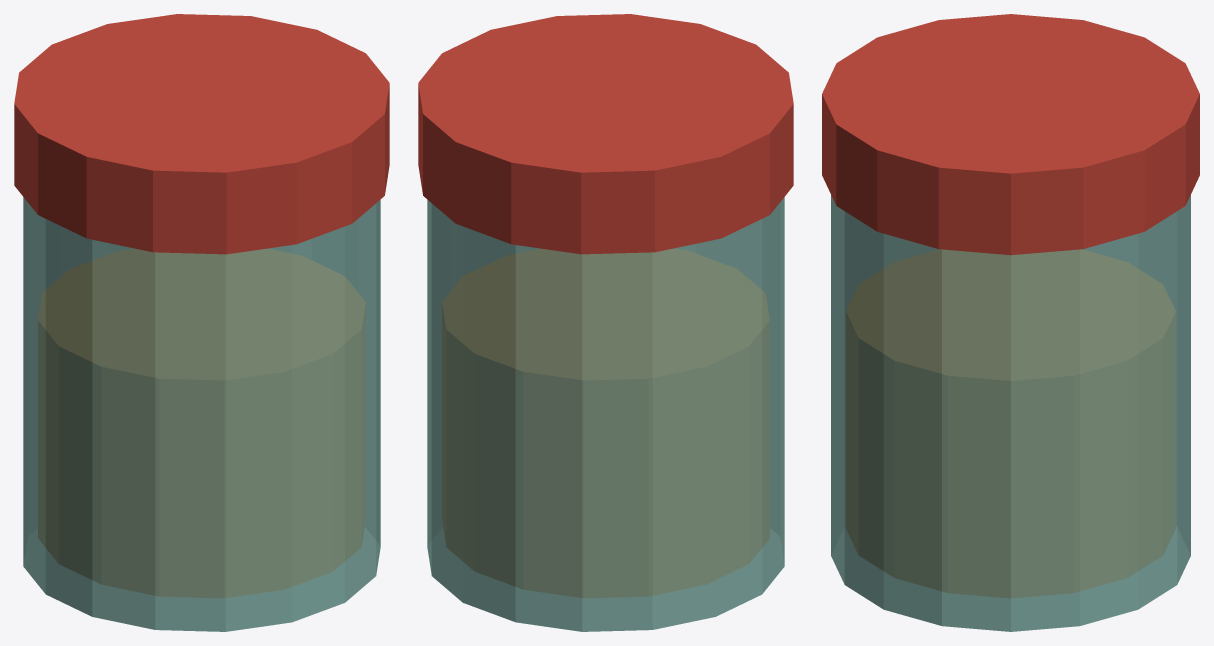
The model's file is jar.fbx.
3 renders of one model, left to right at view 1: azimuth 30°, elevation 25°; view 2: azimuth 150°, elevation 25°; view 3: azimuth 270°, elevation 25°, orthographic.
Visible parts, largest first — view 1: jar; view 2: jar; view 3: jar.
Boxes of the visible parts, bbox=[...] form: jar: bbox=[14, 14, 389, 631]; jar: bbox=[418, 14, 793, 631]; jar: bbox=[822, 14, 1199, 631].
Size of the model in its own units: 0.126 by 0.17 by 0.126.
